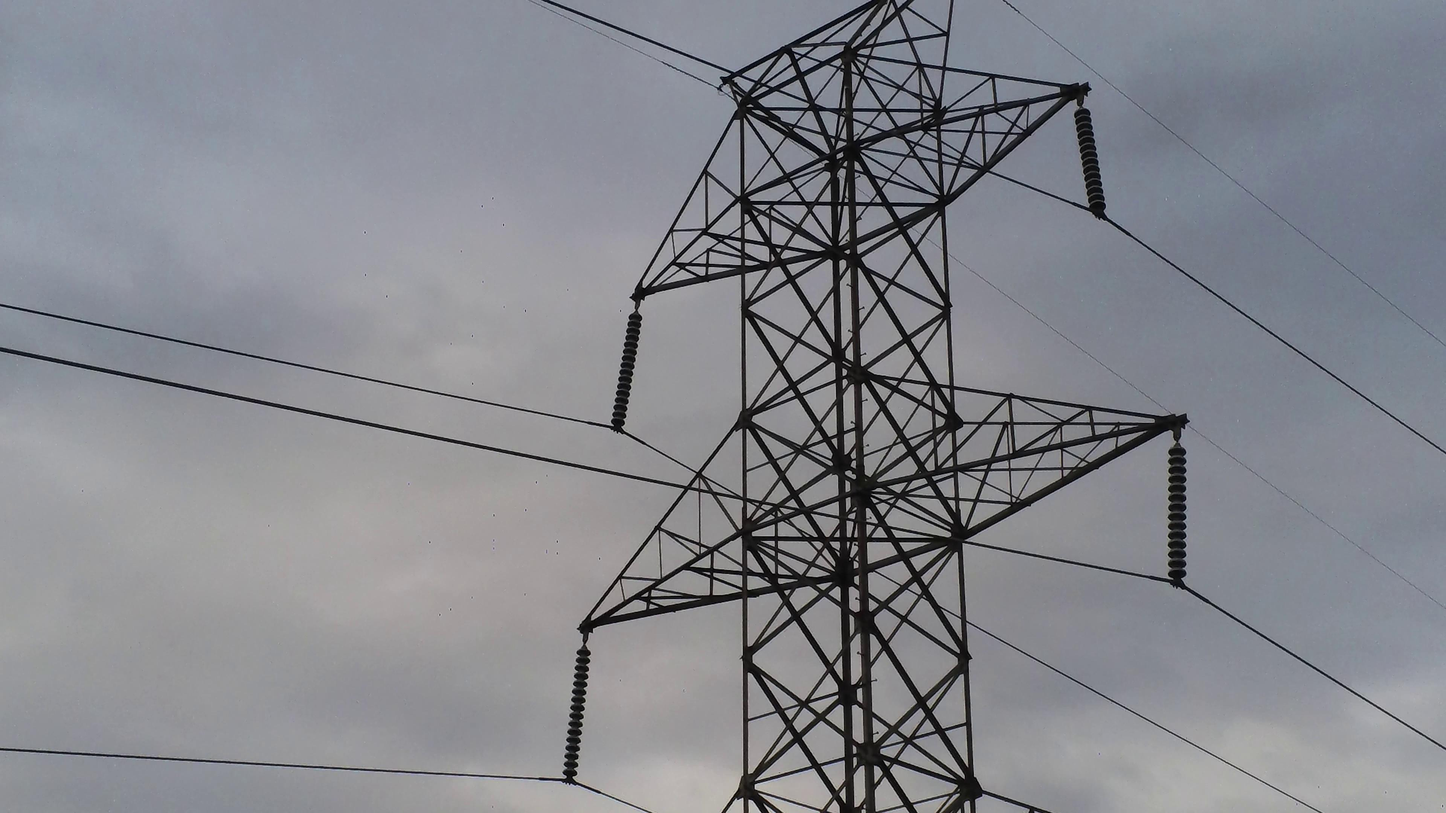power_tower: (562, 0, 1191, 813)
